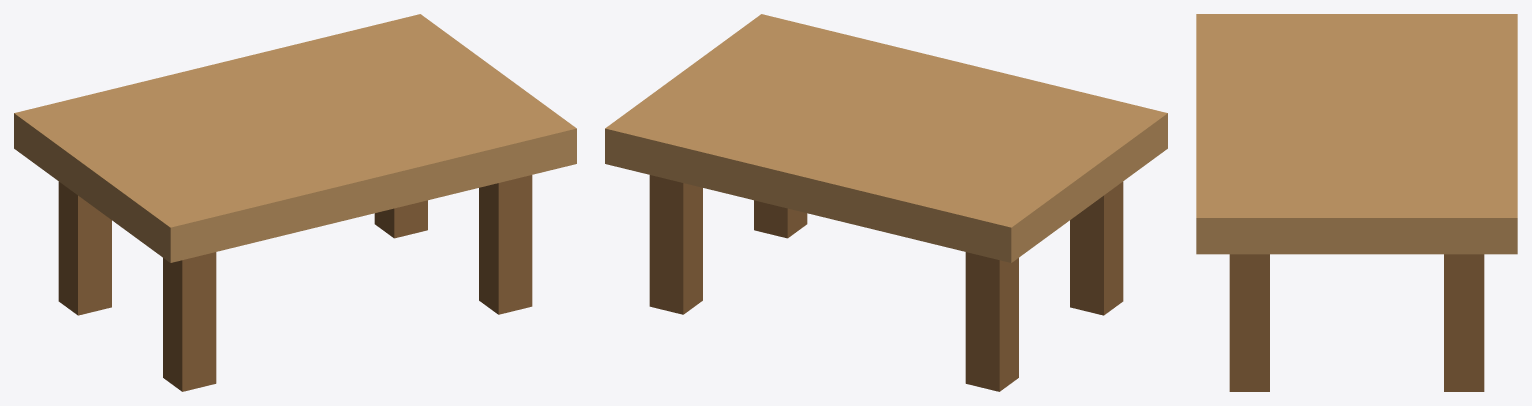
The model's file is table.glb.
3 renders of one model, left to right at view 1: azimuth 30°, elevation 25°; view 2: azimuth 150°, elevation 25°; view 3: azimuth 270°, elevation 25°, orthographic. The views are drawn at different scales.
Parts seen in each view (by area): view 1: table; view 2: table; view 3: table.
Boxes of the visible parts, x1=… form: table: x1=14, y1=14, x2=576, y2=391; table: x1=605, y1=14, x2=1167, y2=391; table: x1=1196, y1=14, x2=1517, y2=391.
Size of the model in its own units: 36 by 15.5 by 24.
